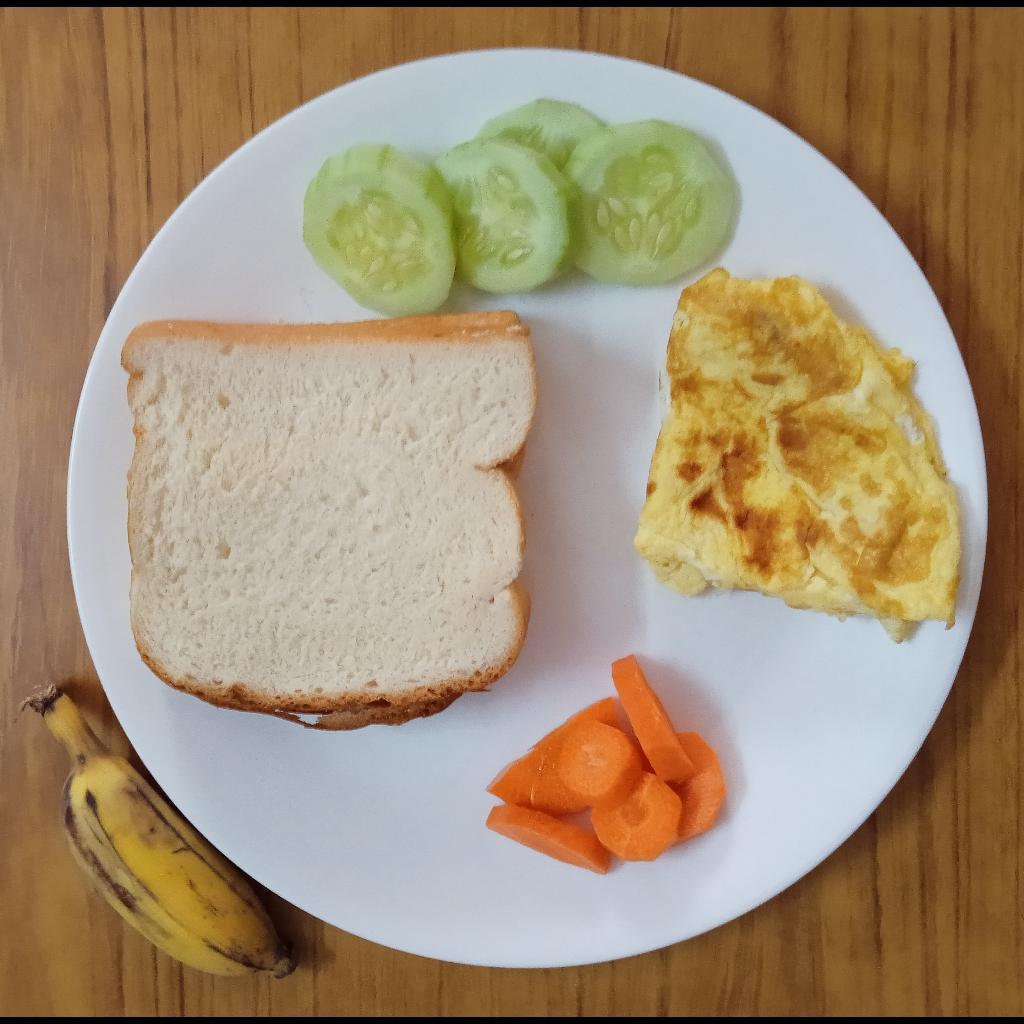banana: (21, 684, 300, 981)
bread: (122, 310, 536, 731)
carrot: (484, 655, 727, 875)
cucumber: (303, 102, 735, 317)
egg-poached: (635, 265, 966, 649)
